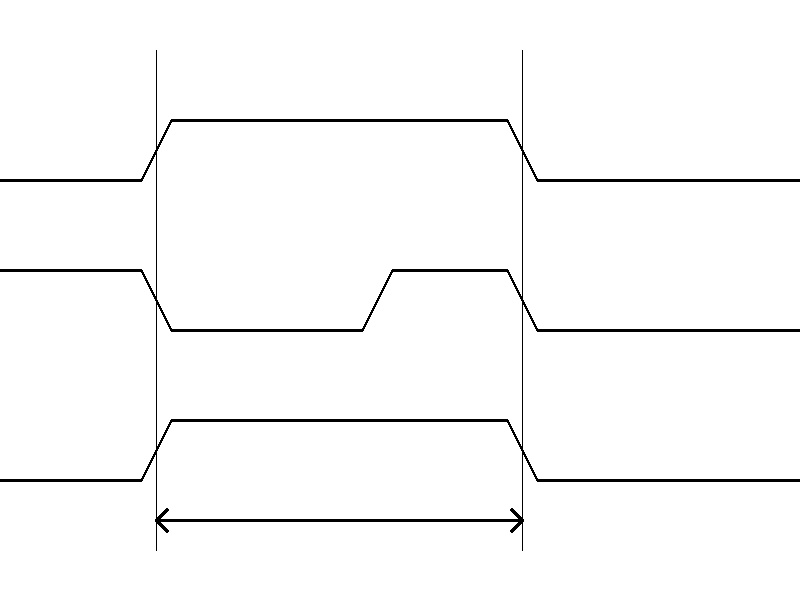double_arrow: (156, 505, 522, 535)
